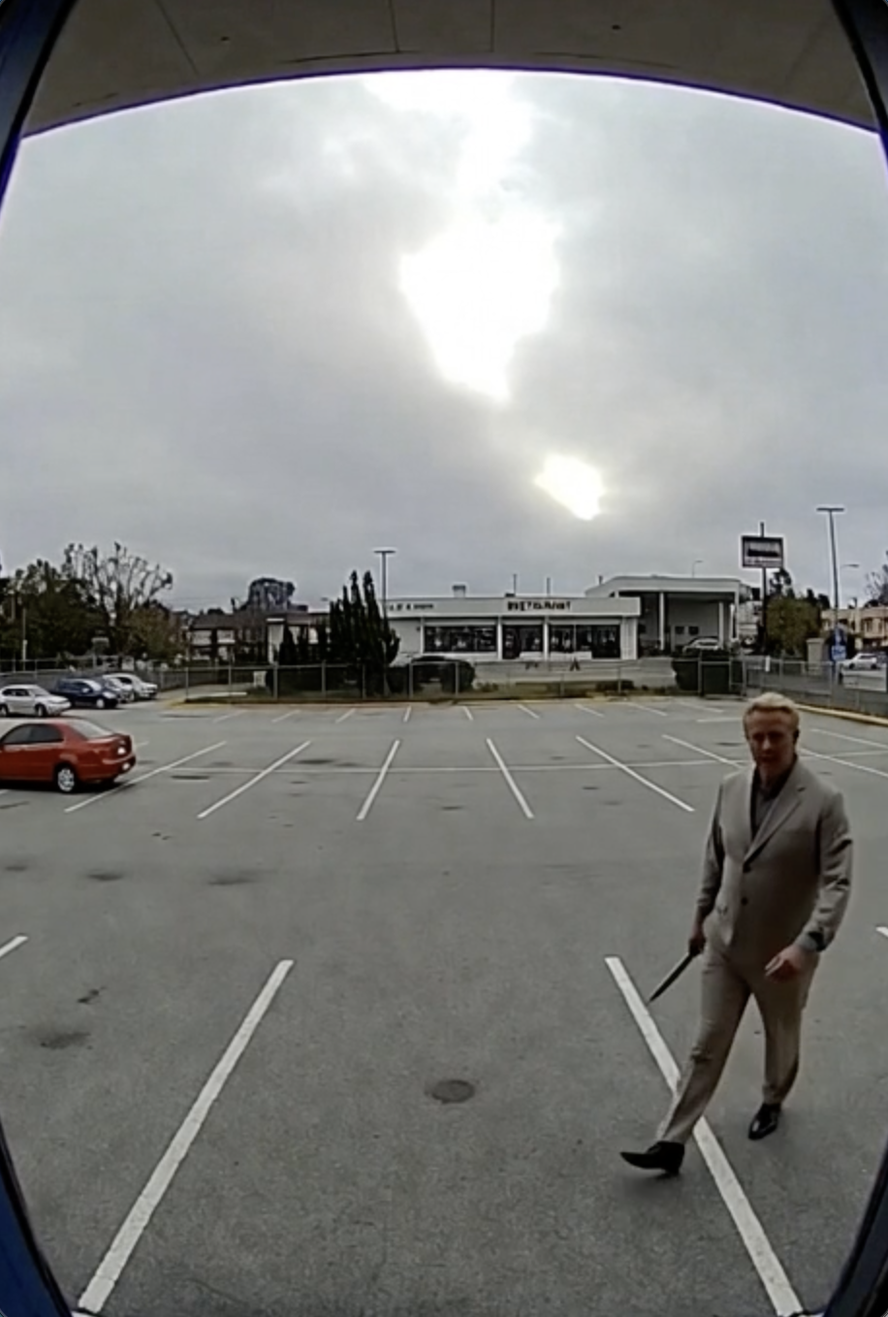Heavy Gun: (616, 688, 858, 1176)
Knife: (639, 927, 721, 1007)
